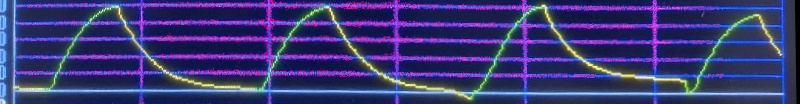normal_volume: (1, 0, 780, 100)
